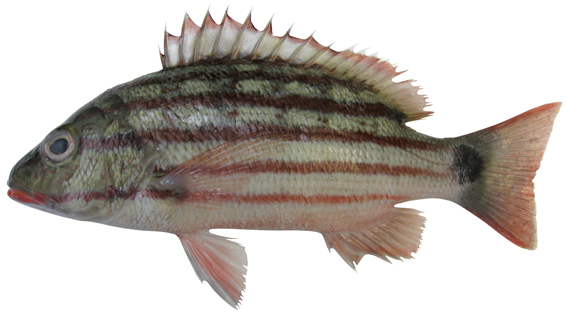fish: (7, 4, 563, 311)
